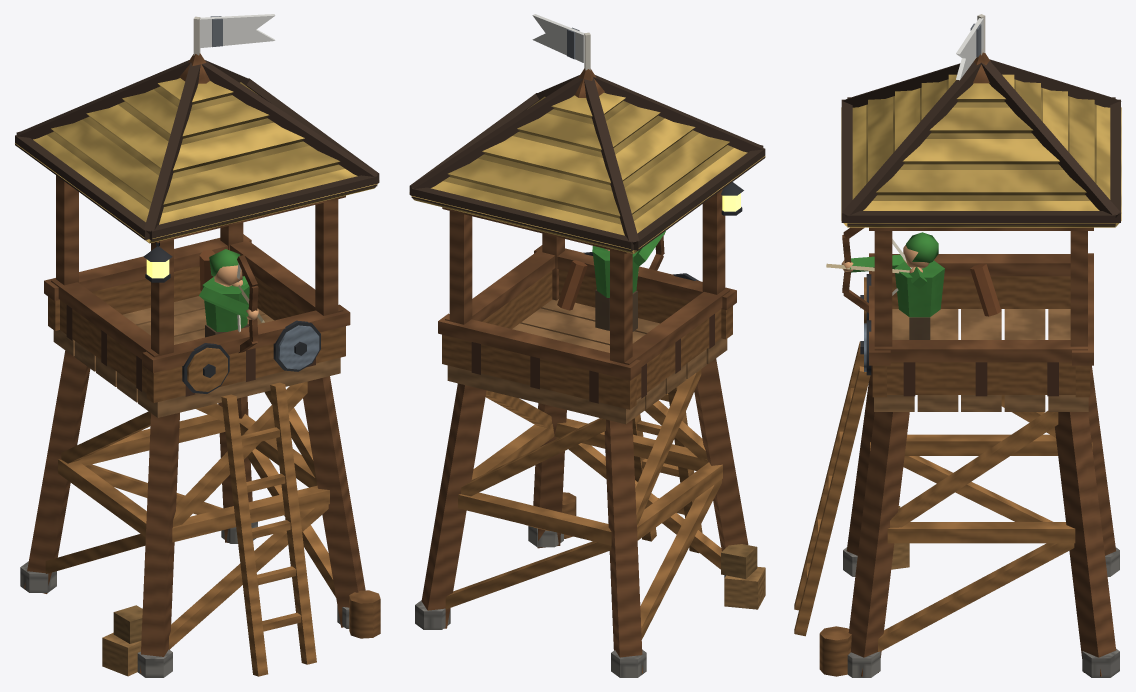
The model's file is tower_l2.glb.
The picture shows the model from 3 angles, left to right: view 1: azimuth 30°, elevation 25°; view 2: azimuth 150°, elevation 25°; view 3: azimuth 270°, elevation 25°; orthographic projection. The views are drawn at different scales.
Visible parts, largest first — view 1: tower_l2; view 2: tower_l2; view 3: tower_l2.
Boxes of the visible parts, x1,y1,x2,y2 form: tower_l2: (15, 14, 380, 677); tower_l2: (409, 14, 765, 677); tower_l2: (794, 14, 1121, 677).
Size of the model in its own units: 0.4145 by 0.9227 by 0.451.
Materials: 2 (1 with a texture image).
